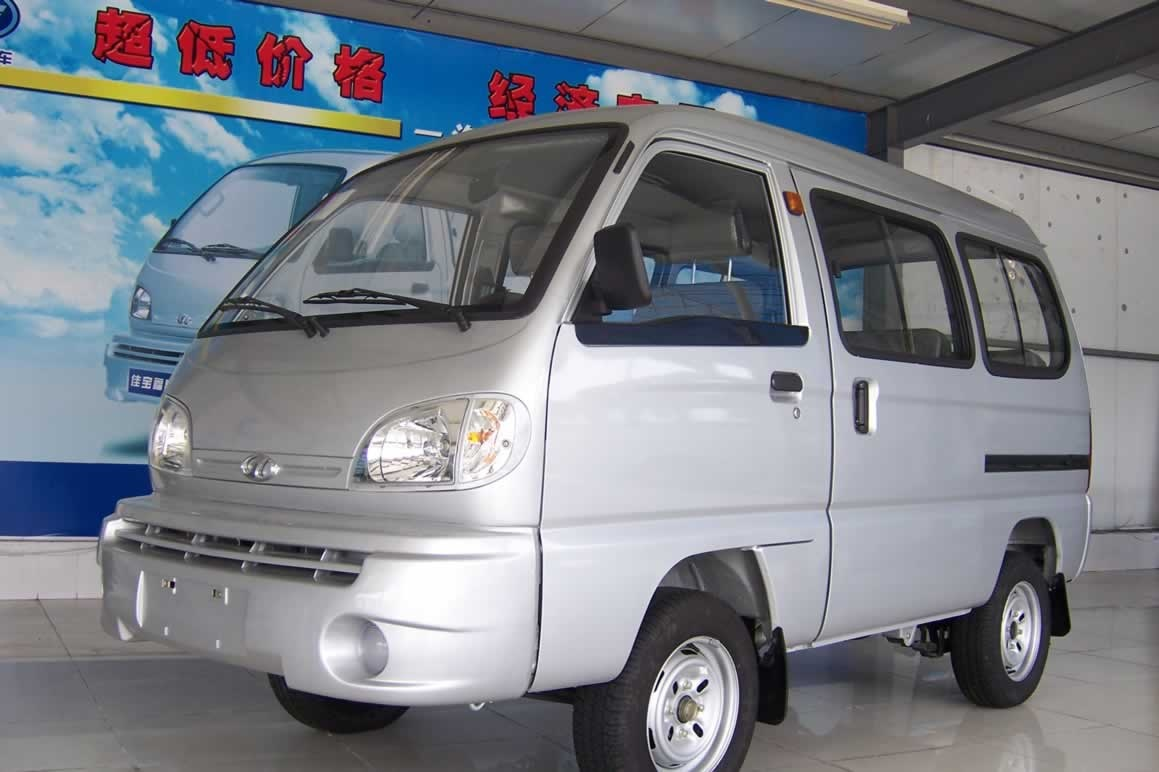minibus: (105, 101, 1130, 766)
